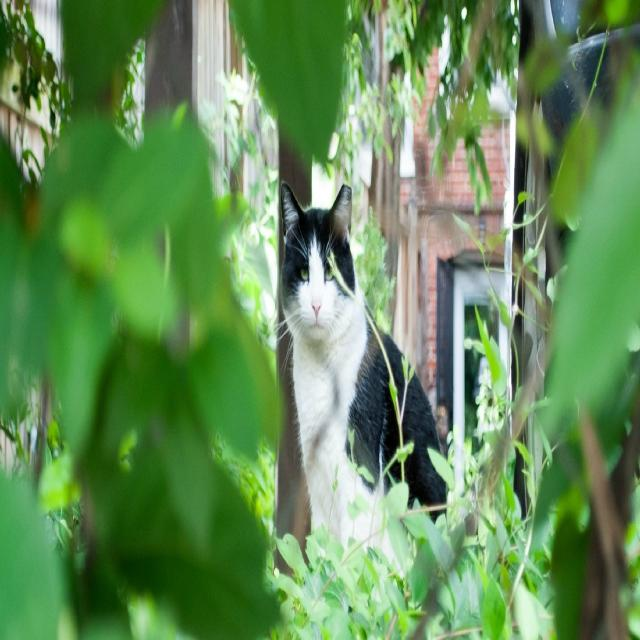cat: (280, 185, 445, 545)
